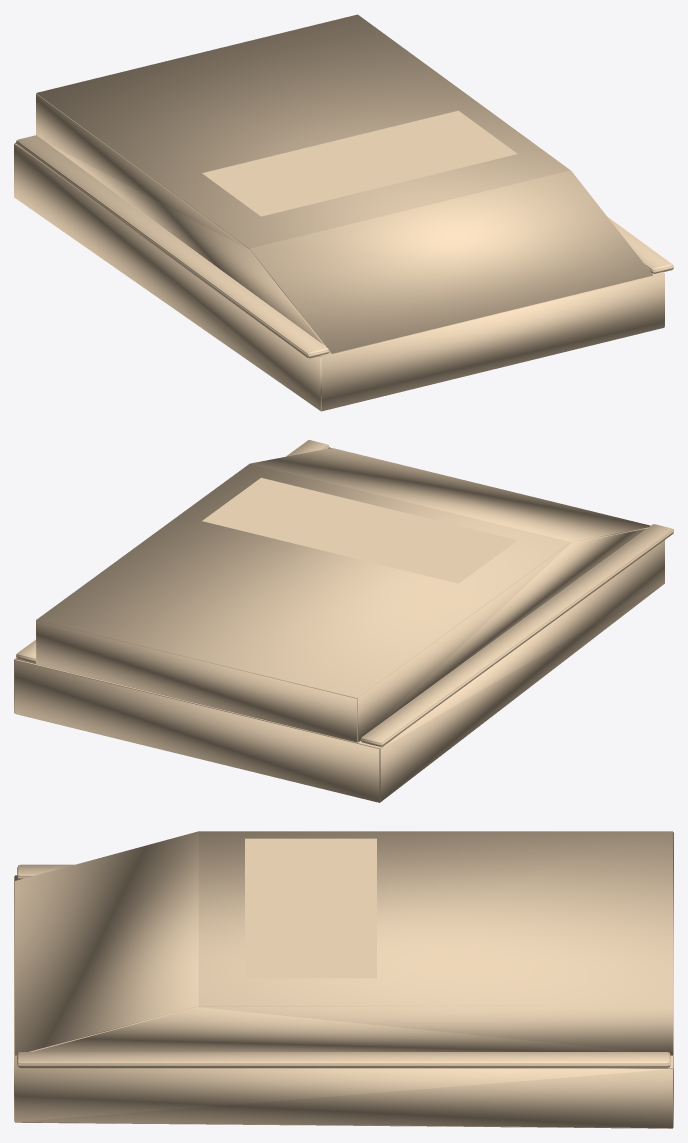
Rendered from plate_main_tidemark.glb.
3 views of the same model, one above another, from view 1: azimuth 30°, elevation 25°; view 2: azimuth 150°, elevation 25°; view 3: azimuth 270°, elevation 25° (orthographic). The views are drawn at different scales.
Visible parts, largest first — view 1: plate_main_tidemark; view 2: plate_main_tidemark; view 3: plate_main_tidemark.
Boxes of the visible parts, left/top/right/bottom form: plate_main_tidemark: left=14, top=14, right=673, bottom=411; plate_main_tidemark: left=14, top=440, right=673, bottom=802; plate_main_tidemark: left=14, top=831, right=673, bottom=1128.
Size of the model in its own units: 5 by 1.42 by 7.
